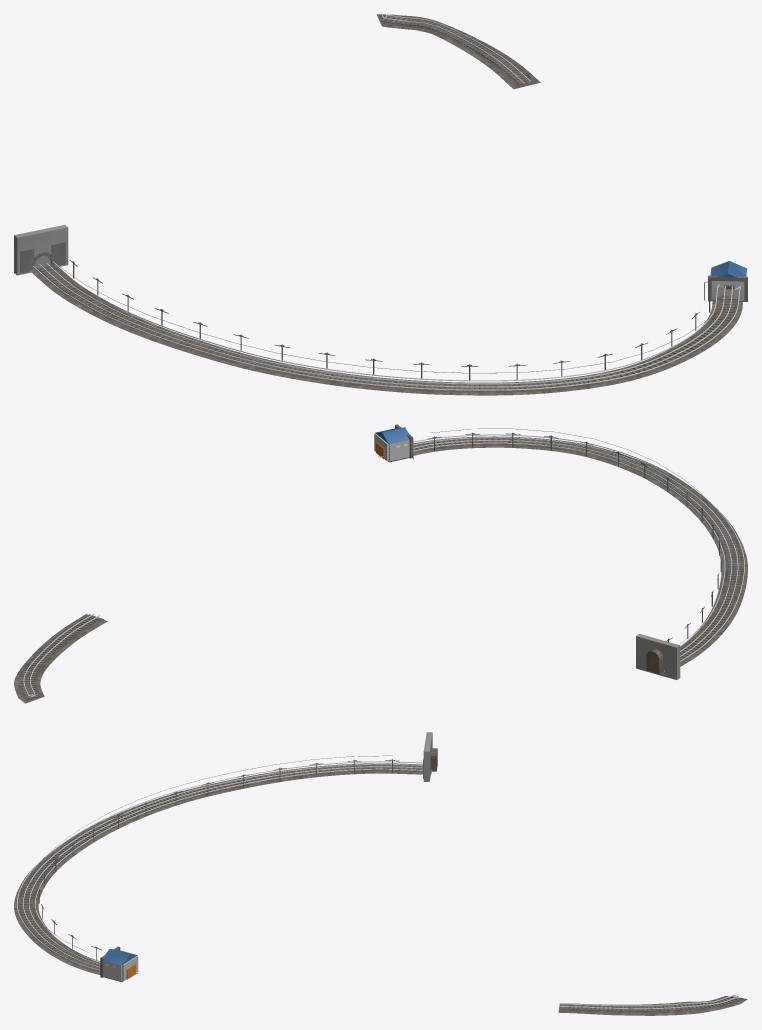
File: Rail_P3.fbx
The picture shows the model from 3 angles, top to bottom: view 1: azimuth 30°, elevation 25°; view 2: azimuth 150°, elevation 25°; view 3: azimuth 270°, elevation 25°; orthographic projection. The views are drawn at different scales.
Visible parts, largest first — view 1: Rail.Bed, Rail.Sleepers, Rail.Ballast, Rail.Portal, Rail.Rail, Rail.Rail.001, Rail.Shed, Rail.Rail.002, Rail.Rail.003, RailPort.Sleepers, RailPort.Ballast, Rail.Masts (+2 smaller); view 2: Rail.Sleepers, Rail.Bed, Rail.Ballast, Rail.Portal, Rail.Shed, RailPort.Sleepers, RailPort.Ballast, RailPort.Bed, Rail.Rail, Rail.Rail.001, Rail.Rail.003, Rail.Rail.002 (+1 smaller); view 3: Rail.Sleepers, Rail.Bed, Rail.Ballast, Rail.Shed, RailPort.Bed, Rail.Rail, Rail.Rail.001, RailPort.Sleepers, Rail.Rail.002, RailPort.Ballast, Rail.Rail.003, Rail.Masts (+1 smaller).
Boxes of the visible parts, x1,y1,x2,y2 form: Rail.Bed: (33, 264, 738, 392); Rail.Sleepers: (37, 265, 735, 390); Rail.Ballast: (30, 265, 742, 395); Rail.Portal: (14, 224, 68, 275); Rail.Rail: (33, 266, 740, 390); Rail.Rail.001: (39, 264, 733, 387); Rail.Shed: (708, 261, 747, 301); Rail.Rail.002: (45, 262, 725, 384); Rail.Rail.003: (53, 261, 719, 381); RailPort.Sleepers: (381, 16, 532, 84); RailPort.Ballast: (376, 14, 540, 89); Rail.Masts: (70, 260, 711, 381); Rail.Sleepers: (413, 438, 741, 660); Rail.Bed: (413, 438, 743, 673); Rail.Ballast: (413, 436, 747, 675); Rail.Portal: (636, 634, 680, 679); Rail.Shed: (374, 424, 413, 462); RailPort.Sleepers: (20, 615, 100, 698); RailPort.Ballast: (14, 614, 107, 703); RailPort.Bed: (17, 614, 104, 701); Rail.Rail: (388, 434, 744, 671); Rail.Rail.001: (388, 437, 738, 656); Rail.Rail.003: (378, 442, 725, 646); Rail.Rail.002: (388, 440, 731, 651); Rail.Sleepers: (20, 764, 422, 969); Rail.Bed: (17, 764, 431, 972); Rail.Ballast: (14, 763, 431, 974); Rail.Shed: (100, 946, 138, 982); RailPort.Bed: (558, 996, 743, 1013); Rail.Rail: (17, 761, 422, 976); Rail.Rail.001: (23, 763, 422, 973); RailPort.Sleepers: (561, 996, 739, 1011); Rail.Rail.002: (29, 766, 422, 970); RailPort.Ballast: (558, 996, 747, 1015); Rail.Rail.003: (35, 768, 431, 974); Rail.Masts: (38, 759, 399, 959).
Bounding box in the file's own units: 32223 × 2933 × 41610.
